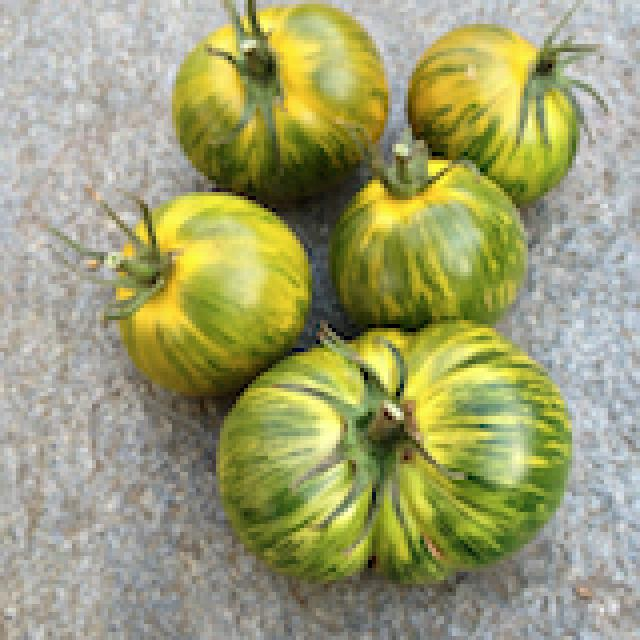yesil: (76, 1, 614, 584)
